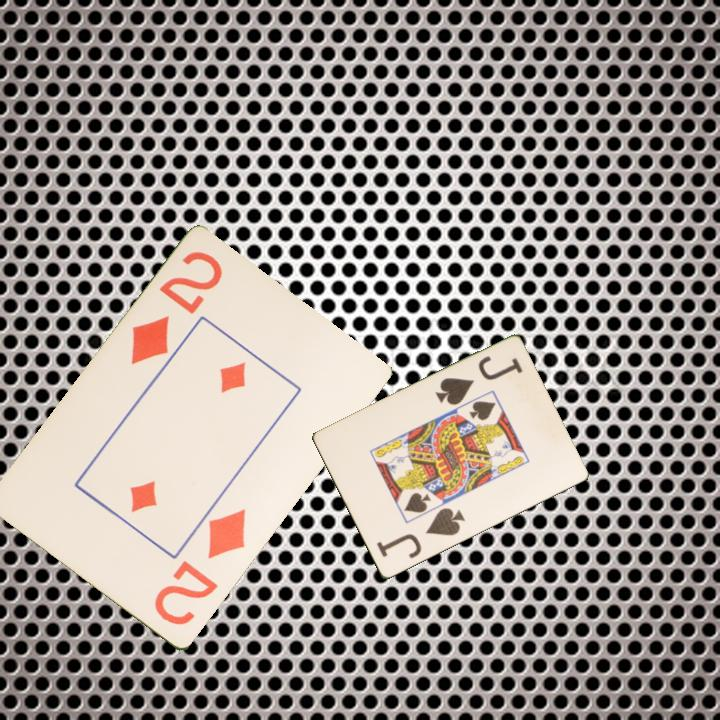2d: (150, 505, 249, 629), (127, 248, 226, 368)
Js: (373, 505, 468, 562), (431, 352, 526, 409)
